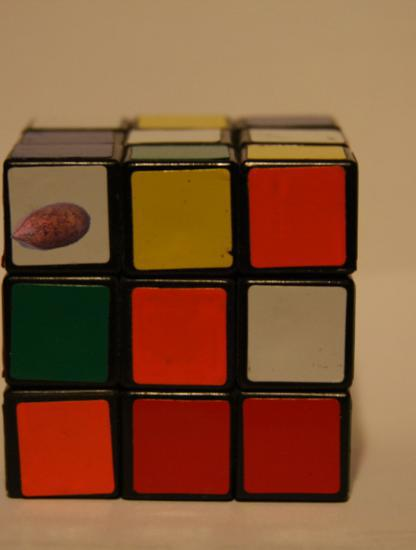Nut: (9, 185, 93, 269)
